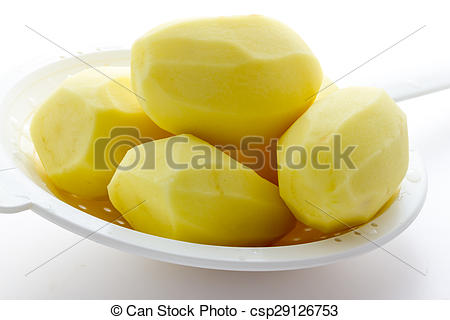boiled potatoes: (125, 12, 322, 132), (285, 81, 404, 235), (109, 140, 290, 240), (27, 72, 148, 191)
